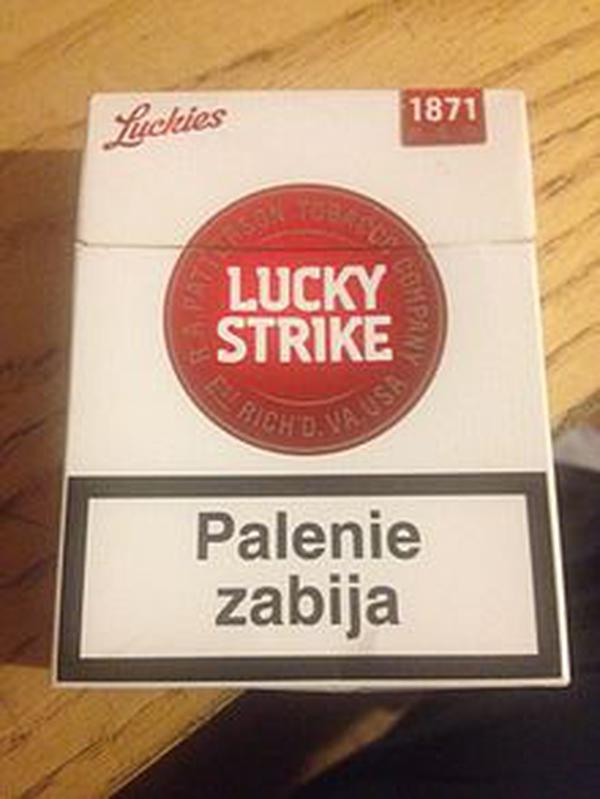lucky_strike_red: (79, 91, 532, 685)
